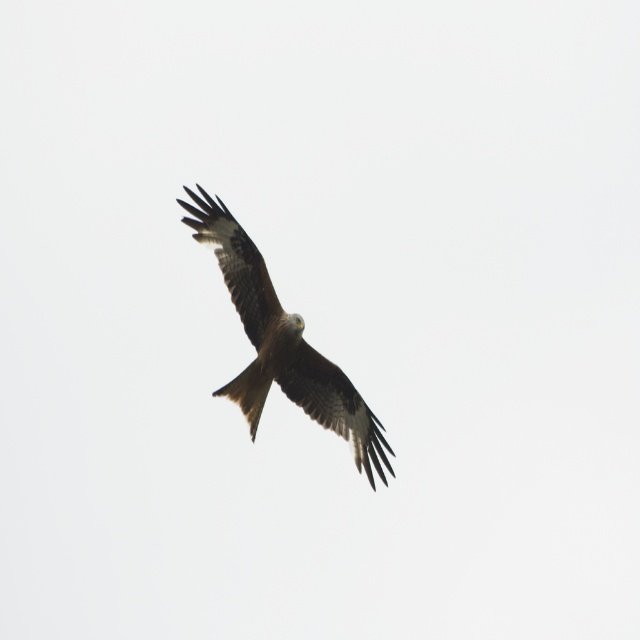Eagle: (173, 174, 399, 496)
